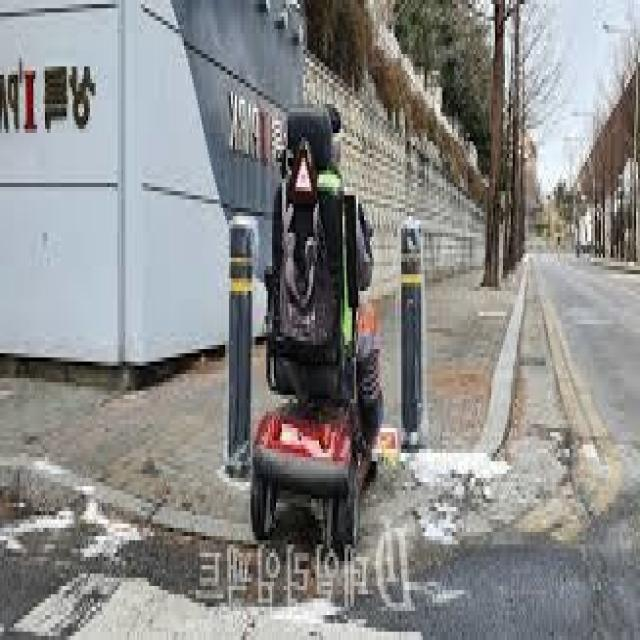bollard: (220, 209, 258, 488), (400, 205, 431, 452)
